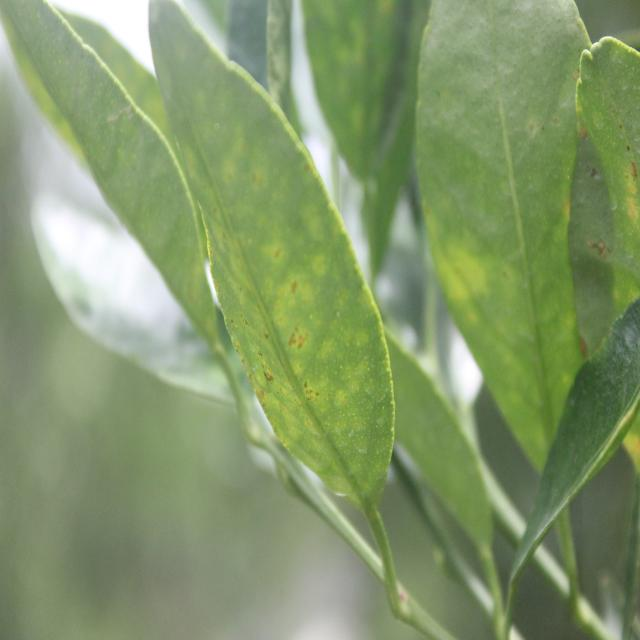canker: (174, 84, 390, 486), (422, 15, 578, 402), (574, 30, 640, 398)
